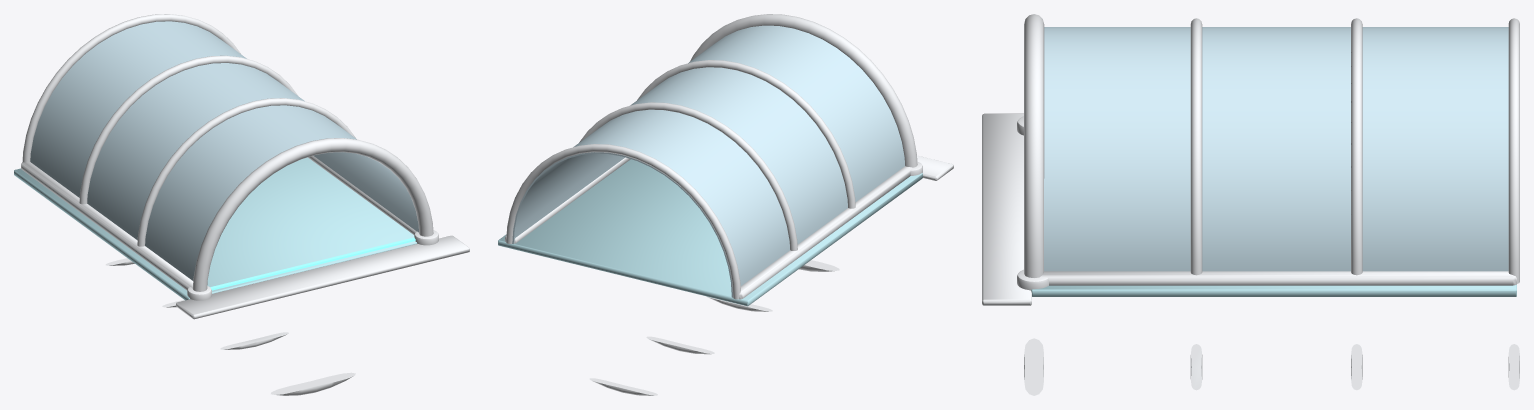
File: exit_aero_pavilion.glb
3 renders of one model, left to right at view 1: azimuth 30°, elevation 25°; view 2: azimuth 150°, elevation 25°; view 3: azimuth 270°, elevation 25°, orthographic. The views are drawn at different scales.
Visible parts, largest first — view 1: pavilion; view 2: pavilion; view 3: pavilion.
Part boxes in pixels (bbox=[...]): pavilion: bbox=[14, 14, 469, 395]; pavilion: bbox=[498, 14, 953, 395]; pavilion: bbox=[982, 14, 1519, 395].
Bounding box in the file's own units: 3.1 × 2.68 × 3.76.
